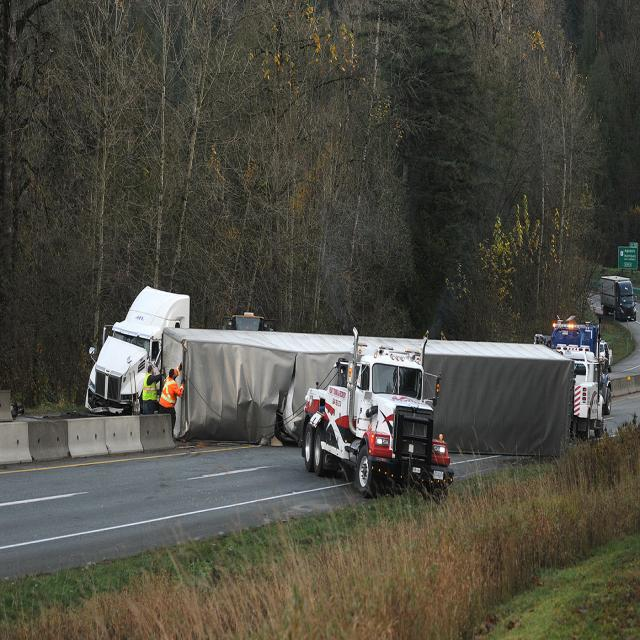Accident: (83, 284, 572, 499)
